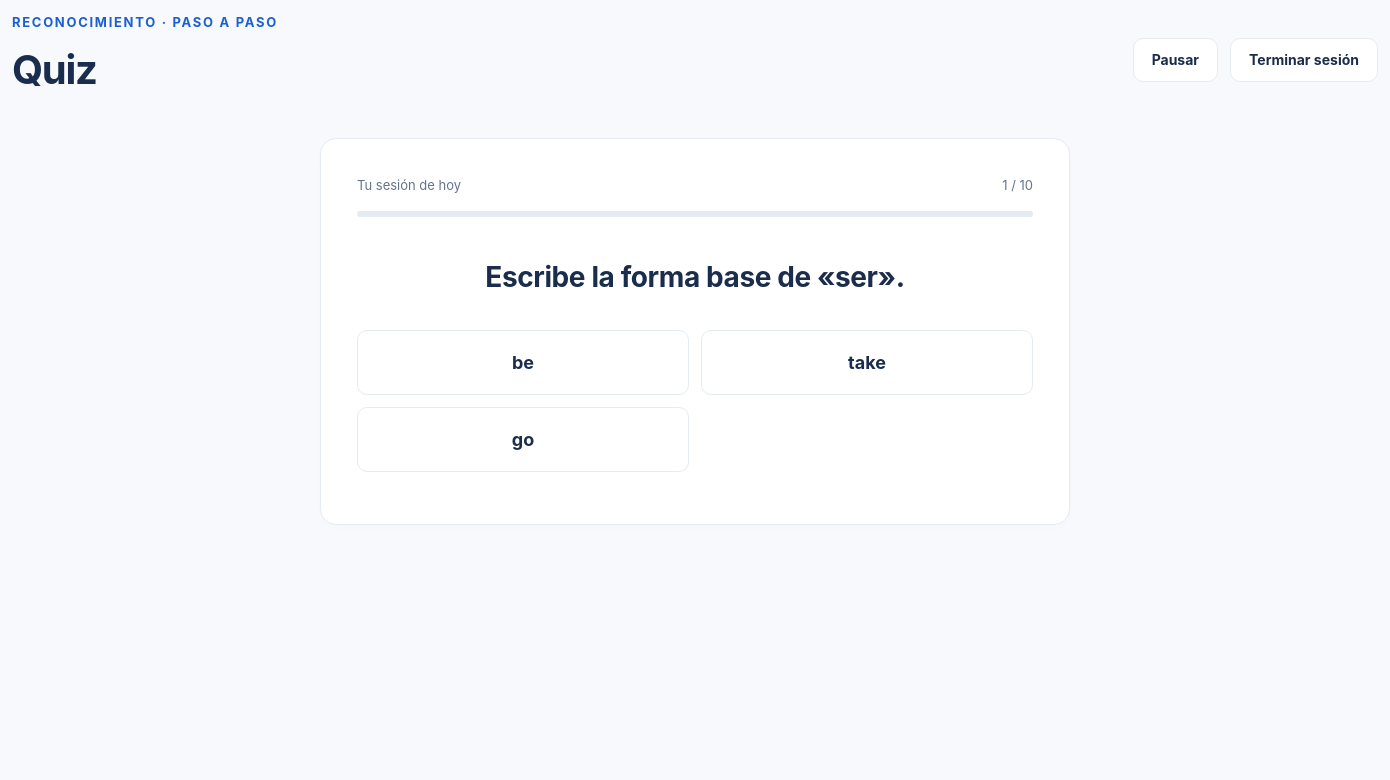
Test case: pause failures are visible and the original action can be retried
The image size is (1390, 780).
Step 1. Click the button "Pausar" → (1175, 60), box [1133, 38, 1218, 82]
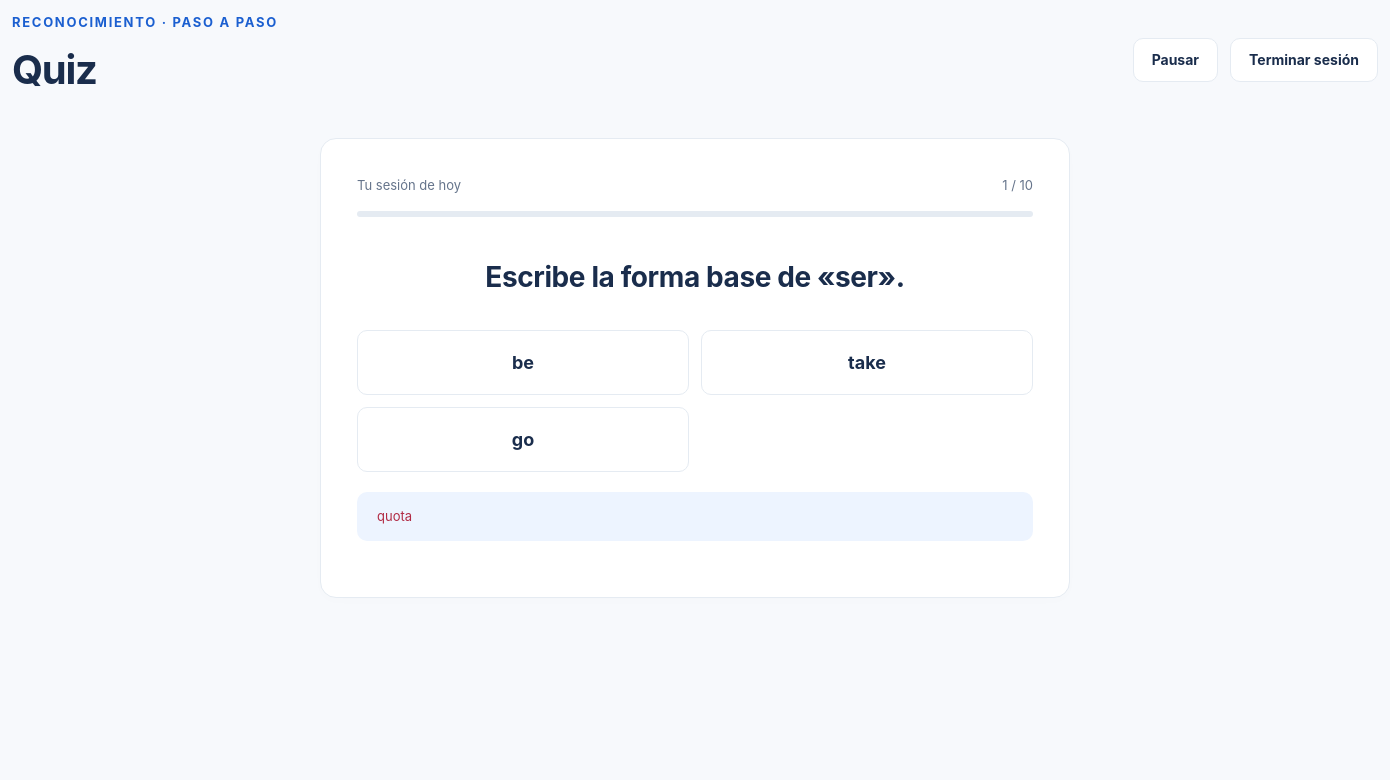
Check: the message reads "quota", box [377, 508, 412, 524]
Step 2. Click the button "Pausar" → (1175, 60), box [1133, 38, 1218, 82]
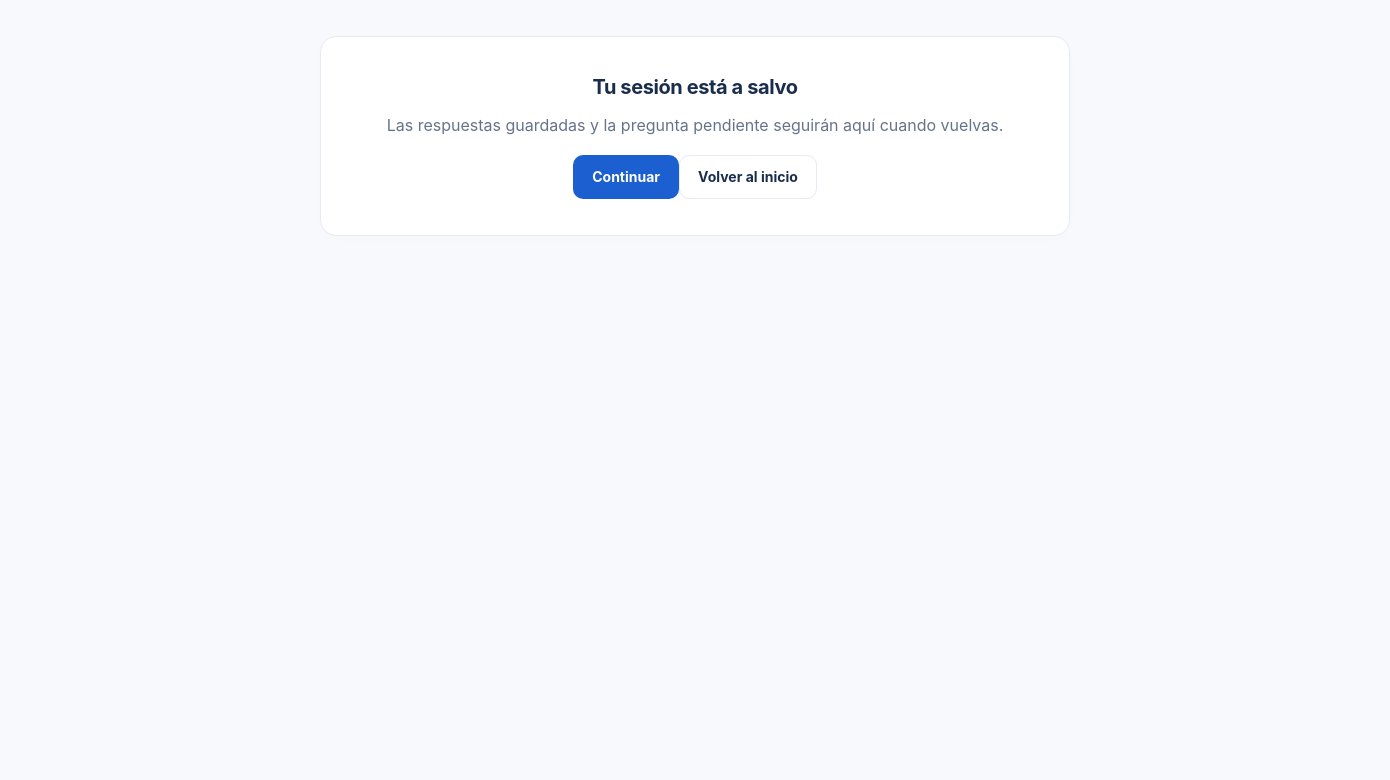
Check: the heading "Tu sesión está a salvo" is shown, box [592, 75, 798, 99]
